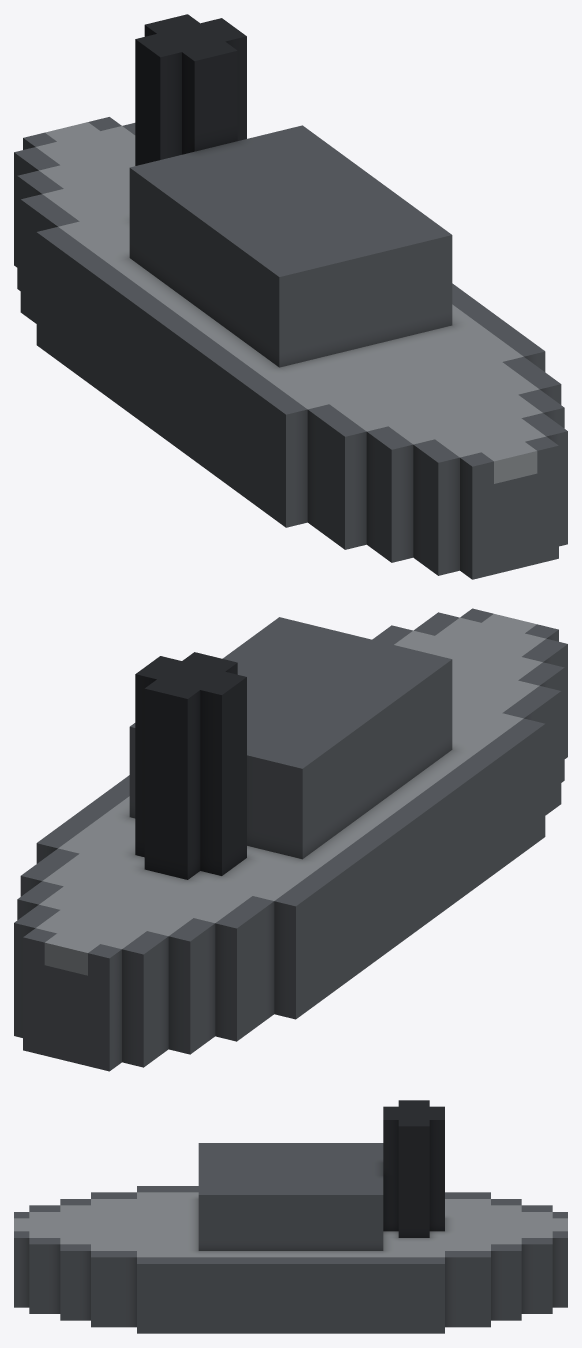
The model's file is u_ironclad.glb.
3 renders of one model, top to bottom at view 1: azimuth 30°, elevation 25°; view 2: azimuth 150°, elevation 25°; view 3: azimuth 270°, elevation 25°, orthographic. The views are drawn at different scales.
Visible parts, largest first — view 1: u_ironclad_body; view 2: u_ironclad_body; view 3: u_ironclad_body.
Boxes of the visible parts, x1=… form: u_ironclad_body: x1=14, y1=14, x2=567, y2=579; u_ironclad_body: x1=14, y1=608, x2=567, y2=1071; u_ironclad_body: x1=14, y1=1100, x2=567, y2=1333.
Bounding box in the file's own units: 0.75 × 0.8125 × 2.25.
1 material, 1 textured.
